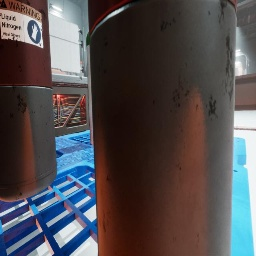0: (86, 32, 94, 145)
FireAlarm ,: (80, 61, 82, 65)
NitrogenTank ,: (88, 0, 237, 256), (0, 0, 57, 202)
